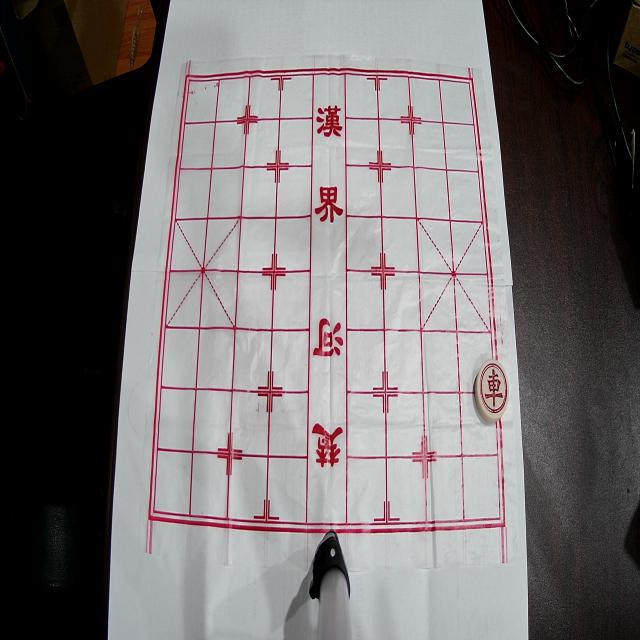red-chariot: (475, 360, 509, 422)
